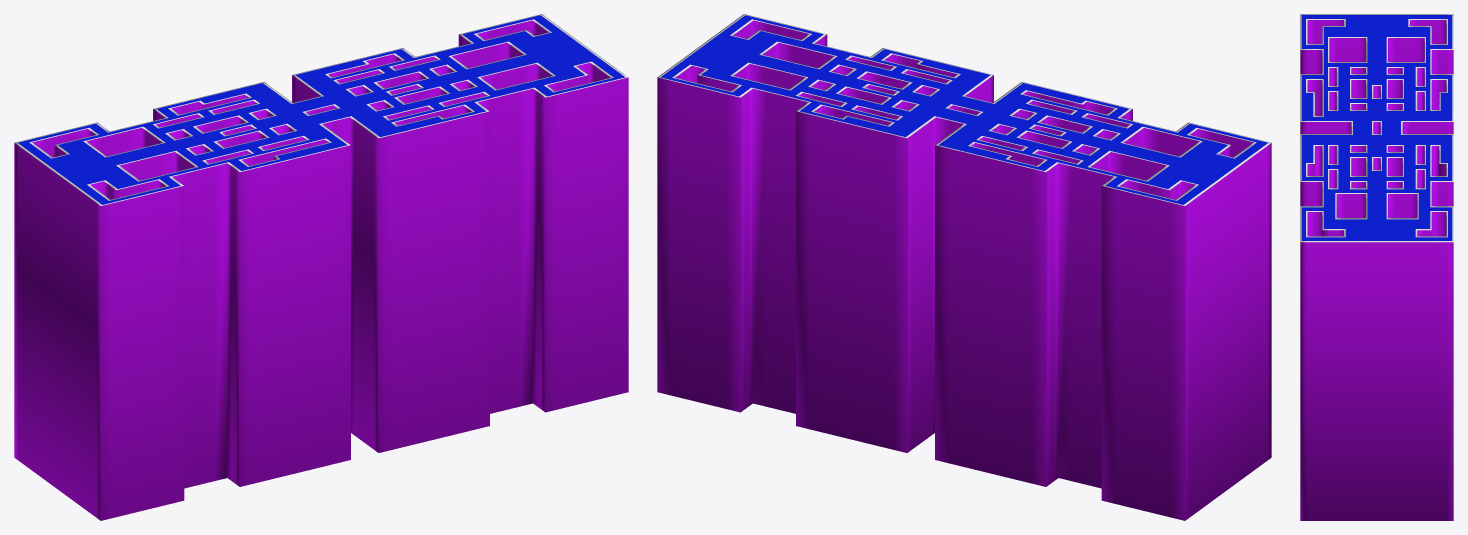
The model's file is Laberinto.fbx.
The picture shows the model from 3 angles, left to right: view 1: azimuth 30°, elevation 25°; view 2: azimuth 150°, elevation 25°; view 3: azimuth 270°, elevation 25°; orthographic projection. The views are drawn at different scales.
Visible parts, largest first — view 1: Laberinto; view 2: Laberinto; view 3: Laberinto.
Boxes of the visible parts, <box> form: Laberinto: <box>14,14,628,520</box>; Laberinto: <box>657,14,1271,520</box>; Laberinto: <box>1300,14,1453,520</box>.
Size of the model in its own units: 2191 by 1248 by 623.
